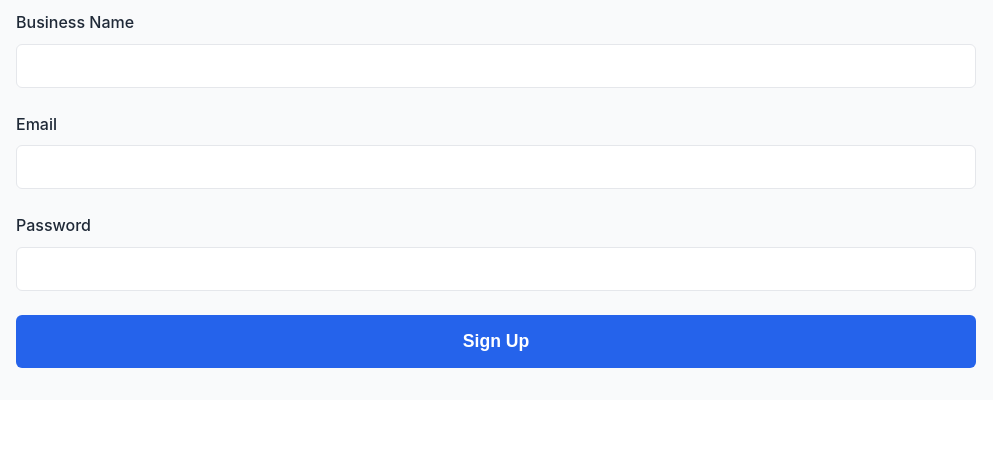
SignupForm › should display error message on API failure
Type "Test Business" into the field labelled "Business Name" at (496, 66), box [16,44,976,88]
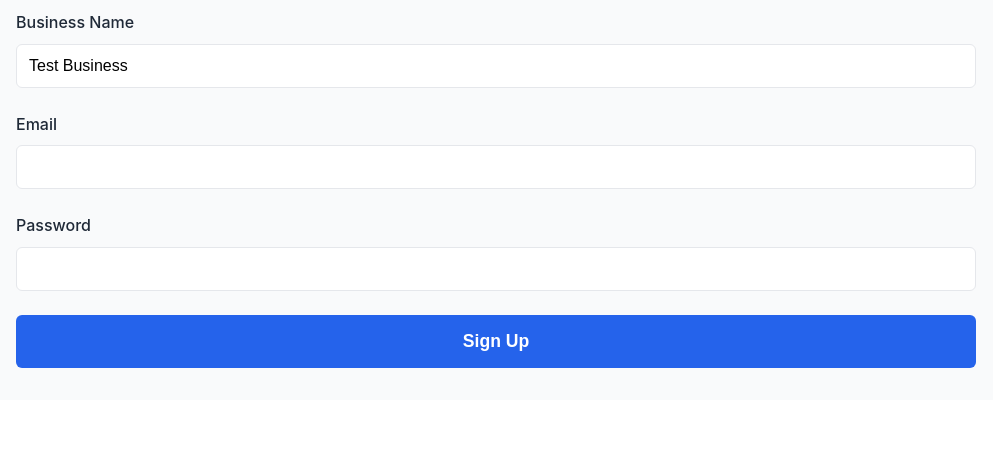
Type "test@example.com" into the field labelled "Email" at (496, 167), box [16,145,976,189]
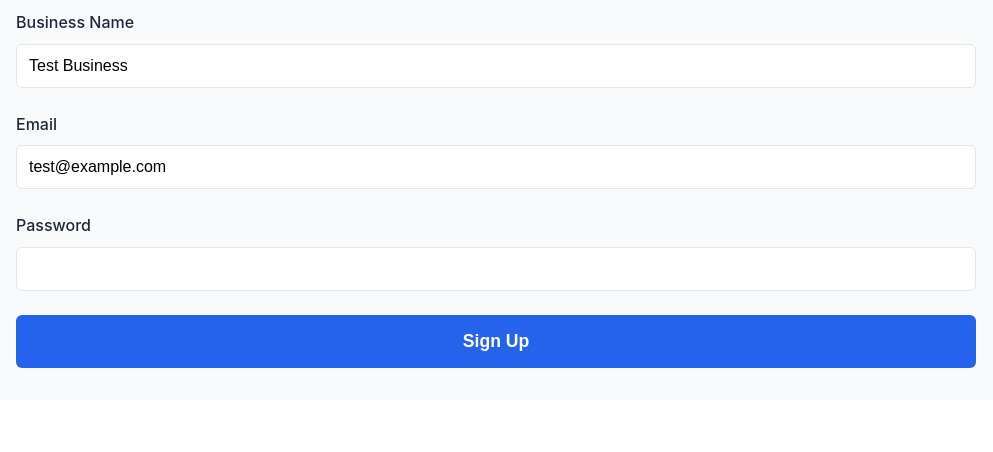
Type "password123" into the password field labelled "Password" at (496, 269), box [16,247,976,291]
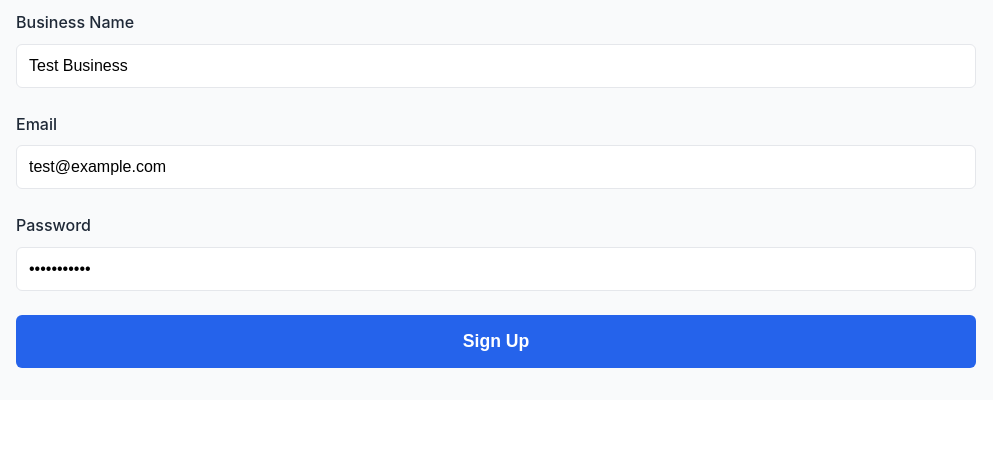
Click the button "Sign Up" at (496, 341), box [16,315,976,368]
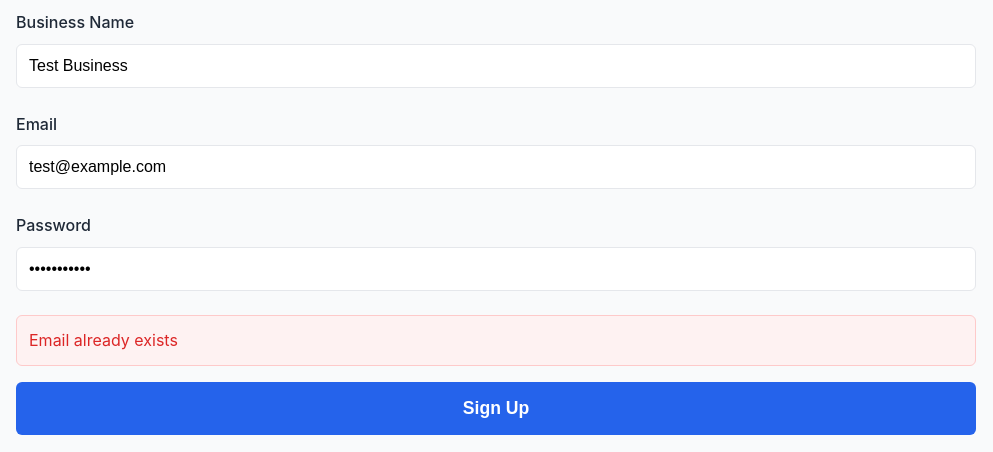
Result: the text "Email already exists" is shown at [16,315,976,366]
